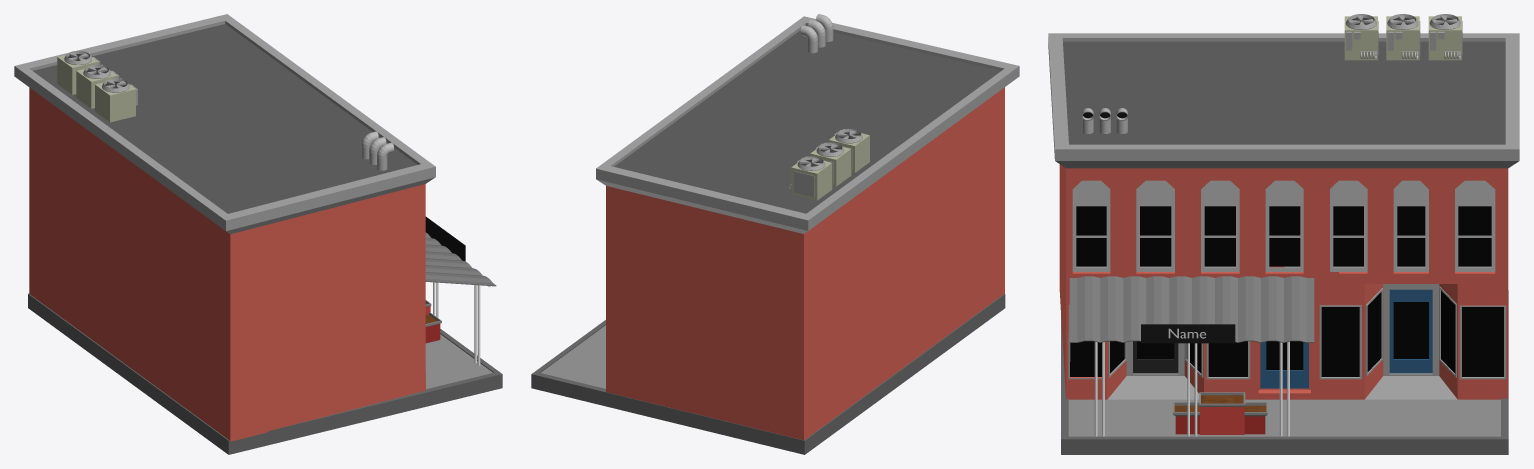
Rendered from draco-Restaurant.glb.
3 views of the same model, side by side, from view 1: azimuth 30°, elevation 25°; view 2: azimuth 150°, elevation 25°; view 3: azimuth 270°, elevation 25° (orthographic). The views are drawn at different scales.
Visible parts, largest first — view 1: Cube, Cube.001, Plane, Plane.001, Cube.005, Cube.003, Cube.004, Cylinder.004, Plane.002, Cylinder.002, Cube.002; view 2: Cube, Cube.001, Plane, Cube.003, Cube.004, Cube.005, Cylinder.004; view 3: Cube, Plane.001, Plane, Cube.001, Cube.002, Plane.002, Cube.004, Cube.003, Cube.005, Cylinder.004, Cylinder.001, Cylinder.002 (+1 smaller).
Part boxes in pixels (left/top/right/bottom): Cube: left=14, top=14, right=435, bottom=441; Cube.001: left=28, top=293, right=502, bottom=454; Plane: left=425, top=334, right=492, bottom=389; Plane.001: left=425, top=232, right=496, bottom=286; Cube.005: left=95, top=78, right=137, bottom=122; Cube.003: left=57, top=50, right=100, bottom=94; Cube.004: left=76, top=64, right=119, bottom=108; Cylinder.004: left=361, top=131, right=393, bottom=170; Plane.002: left=425, top=216, right=465, bottom=261; Cylinder.002: left=474, top=285, right=480, bottom=365; Cube.002: left=425, top=300, right=441, bottom=343; Cube: left=596, top=16, right=1019, bottom=440; Cube.001: left=531, top=294, right=1005, bottom=454; Plane: left=541, top=325, right=605, bottom=388; Cube.003: left=789, top=156, right=832, bottom=200; Cube.004: left=810, top=142, right=851, bottom=186; Cube.005: left=829, top=129, right=869, bottom=172; Cylinder.004: left=800, top=14, right=833, bottom=53; Cube: left=1048, top=33, right=1519, bottom=399; Plane.001: left=1069, top=276, right=1314, bottom=342; Plane: left=1068, top=399, right=1500, bottom=436; Cube.001: left=1061, top=290, right=1508, bottom=454; Cube.002: left=1173, top=392, right=1267, bottom=434; Plane.002: left=1141, top=324, right=1235, bottom=343; Cube.004: left=1386, top=14, right=1420, bottom=60; Cube.003: left=1428, top=14, right=1462, bottom=60; Cube.005: left=1344, top=14, right=1378, bottom=60; Cylinder.004: left=1082, top=108, right=1127, bottom=133; Cylinder.001: left=1279, top=341, right=1289, bottom=436; Cylinder.002: left=1094, top=342, right=1104, bottom=436.
Bounding box in the file's own units: 22.8 × 20.64 × 29.56.
